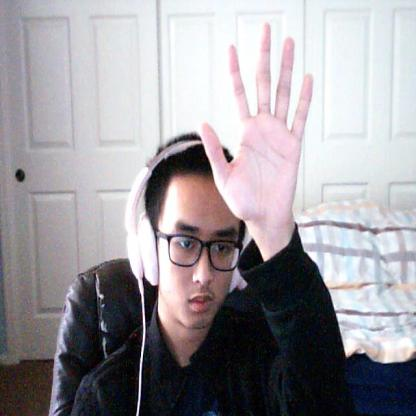palm: (201, 20, 319, 228)
